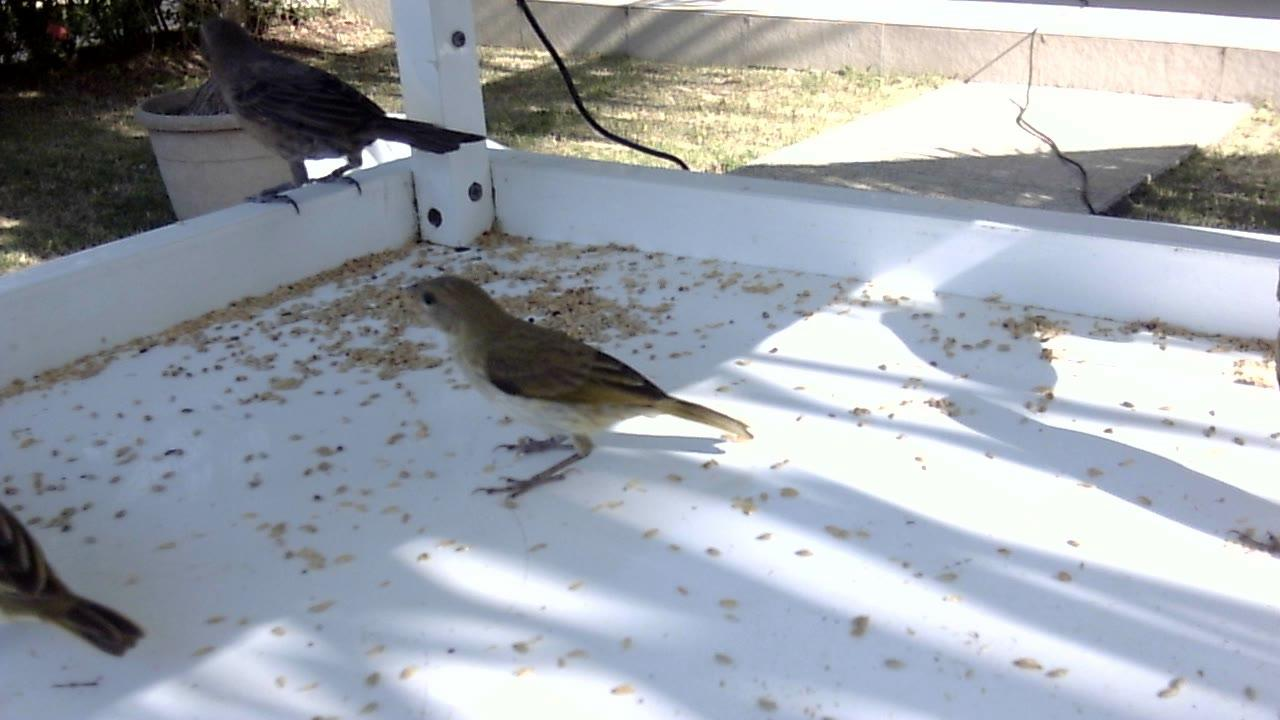canario_do_amazonas: (402, 275, 757, 504), (1, 503, 149, 661)
chupim: (199, 17, 490, 218)
